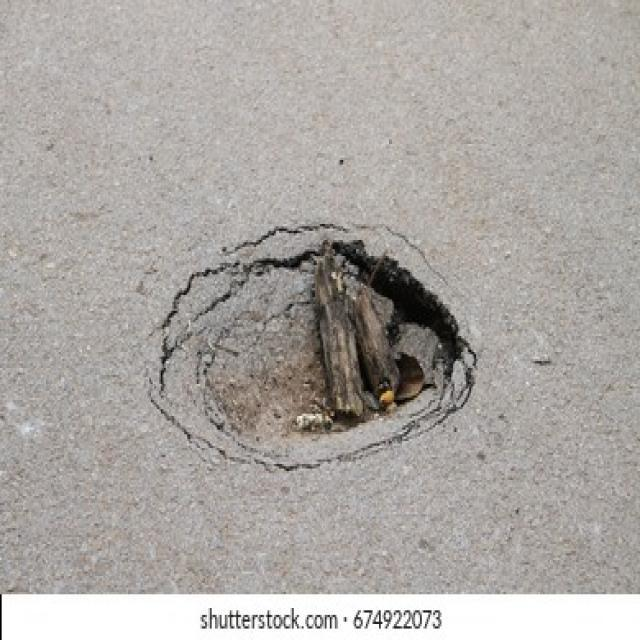Pothole: (142, 217, 482, 471)
